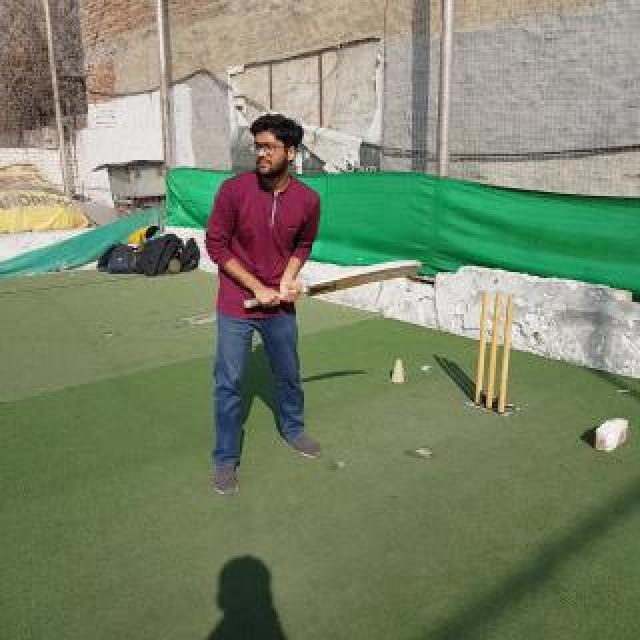bat: (242, 260, 422, 312)
